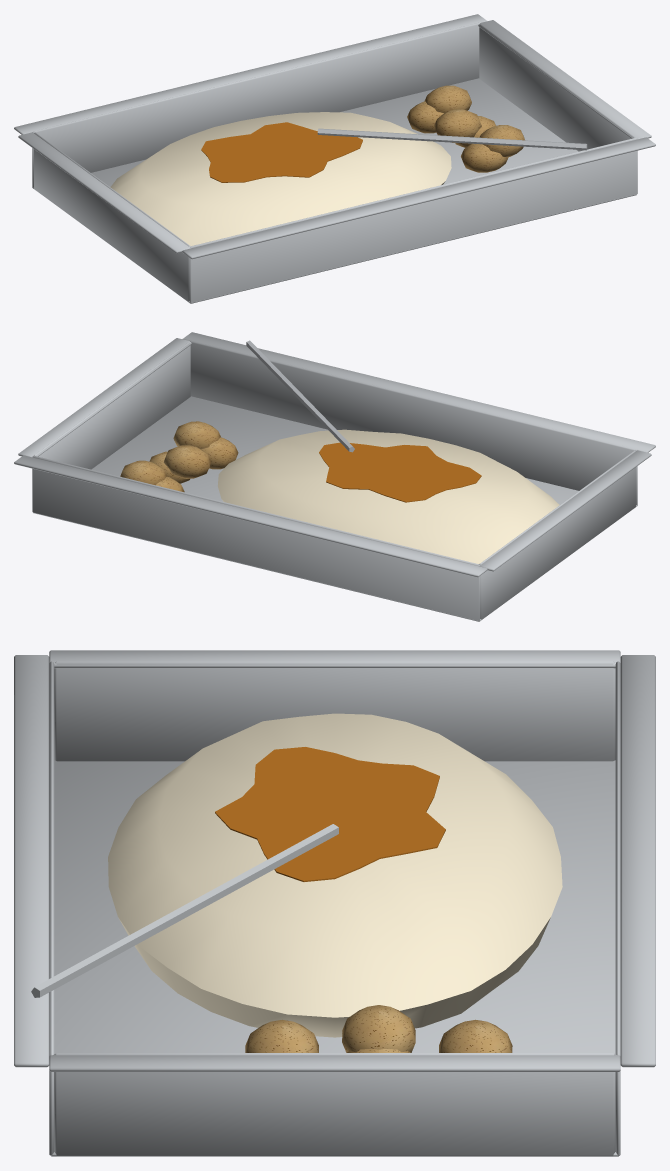
The model's file is tray_hotel_pan_mash_gravy.glb.
3 renders of one model, top to bottom at view 1: azimuth 30°, elevation 25°; view 2: azimuth 150°, elevation 25°; view 3: azimuth 270°, elevation 25°, orthographic. The views are drawn at different scales.
Visible parts, largest first — view 1: tray_hotel_pan_mash_gravy; view 2: tray_hotel_pan_mash_gravy; view 3: tray_hotel_pan_mash_gravy.
Boxes of the visible parts, bbox=[...] form: tray_hotel_pan_mash_gravy: bbox=[14, 14, 655, 303]; tray_hotel_pan_mash_gravy: bbox=[14, 332, 655, 621]; tray_hotel_pan_mash_gravy: bbox=[14, 650, 655, 1156].
Bounding box in the file's own units: 0.563 × 0.0773 × 0.365.
Materials: 4 (1 with a texture image).
